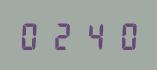four: (78, 20, 107, 50)
two: (48, 20, 77, 50)
zero: (18, 20, 47, 50), (108, 20, 137, 50)
